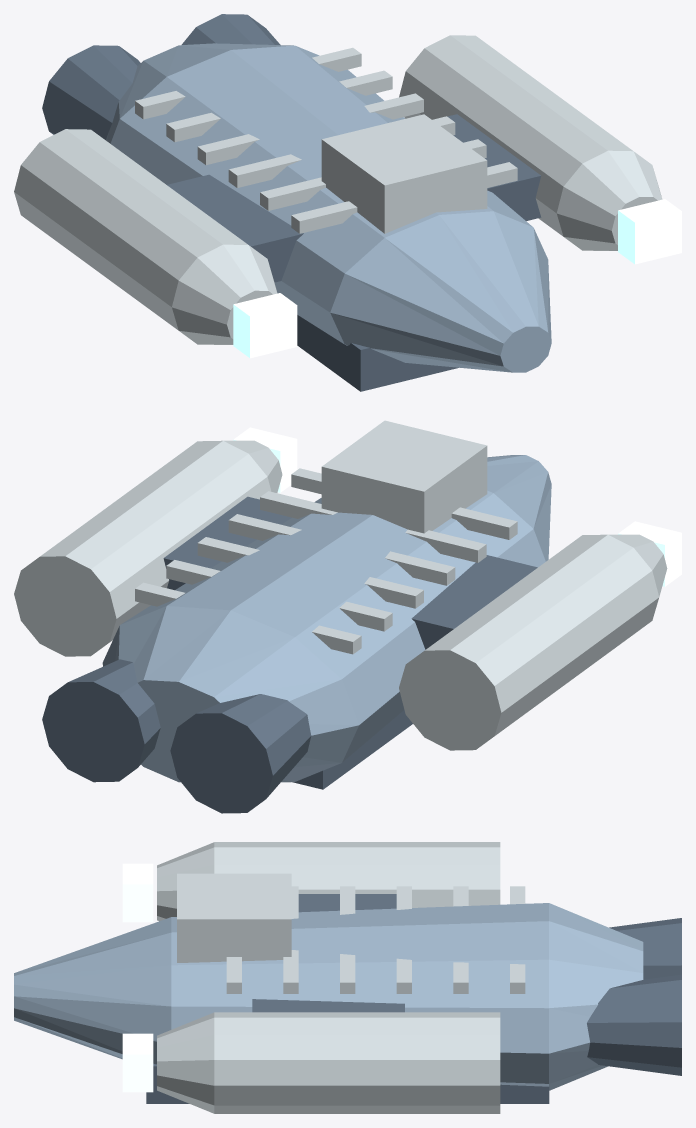
3 renders of one model, top to bottom at view 1: azimuth 30°, elevation 25°; view 2: azimuth 150°, elevation 25°; view 3: azimuth 270°, elevation 25°, orthographic. The views are drawn at different scales.
Size of the model in its own units: 5.56 by 2.12 by 7.28.
